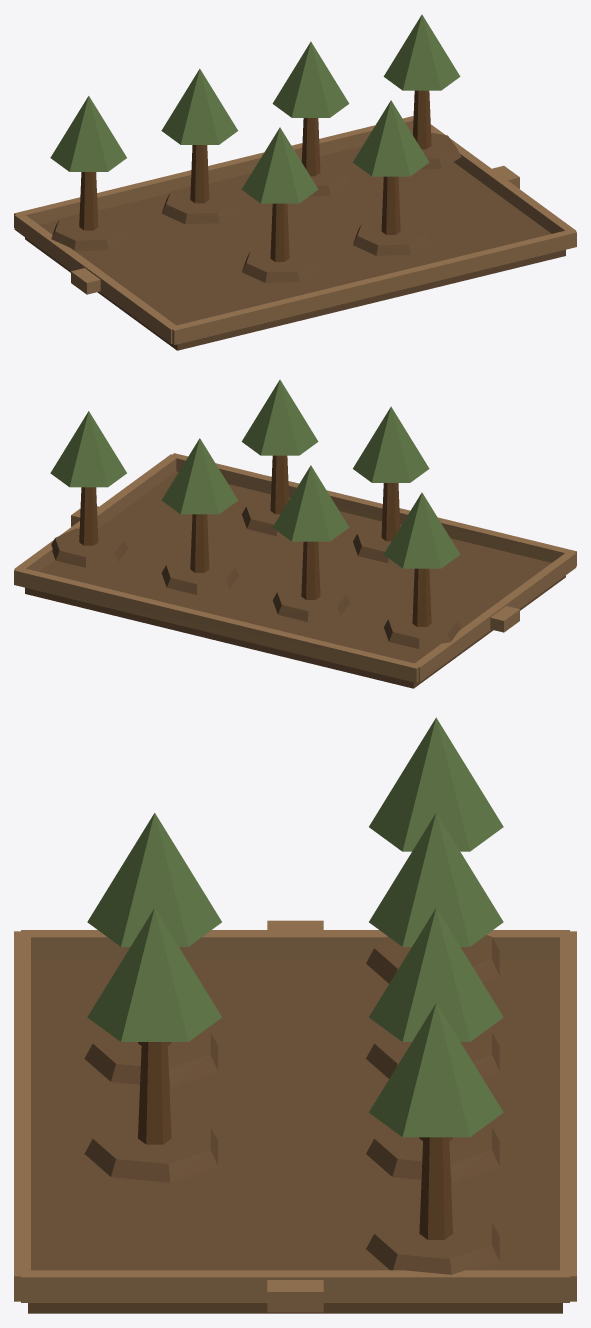
The model's file is orchard.source.glb.
3 views of the same model, one above another, from view 1: azimuth 30°, elevation 25°; view 2: azimuth 150°, elevation 25°; view 3: azimuth 270°, elevation 25° (orthographic). The views are drawn at different scales.
Parts seen in each view (by area): view 1: orchard-soil-bed-mesh, orchard-canopy-mesh (×6), orchard-curb-mesh (×4), orchard-tree-berm-mesh (×6), orchard-trunk-mesh (×6), orchard-irrigation-in-mesh; view 2: orchard-soil-bed-mesh, orchard-canopy-mesh (×6), orchard-curb-mesh (×4), orchard-tree-berm-mesh (×6), orchard-trunk-mesh (×6), orchard-irrigation-in-mesh; view 3: orchard-soil-bed-mesh, orchard-canopy-mesh (×6), orchard-curb-mesh (×4), orchard-tree-berm-mesh (×6), orchard-trunk-mesh (×2), orchard-irrigation-out-mesh.
Boxes of the visible parts, left/top/right/bottom form: orchard-soil-bed-mesh: left=25, top=146, right=565, bottom=350; orchard-canopy-mesh (×6): left=50, top=14, right=460, bottom=203; orchard-curb-mesh (×4): left=14, top=116, right=576, bottom=344; orchard-tree-berm-mesh (×6): left=51, top=132, right=461, bottom=282; orchard-trunk-mesh (×6): left=79, top=90, right=431, bottom=261; orchard-irrigation-in-mesh: left=71, top=268, right=100, bottom=294; orchard-soil-bed-mesh: left=25, top=471, right=565, bottom=688; orchard-canopy-mesh (×6): left=50, top=379, right=460, bottom=568; orchard-curb-mesh (×4): left=14, top=453, right=576, bottom=682; orchard-tree-berm-mesh (×6): left=51, top=497, right=460, bottom=648; orchard-trunk-mesh (×6): left=79, top=455, right=431, bottom=626; orchard-irrigation-in-mesh: left=490, top=606, right=519, bottom=632; orchard-soil-bed-mesh: left=28, top=960, right=562, bottom=1313; orchard-canopy-mesh (×6): left=87, top=717, right=503, bottom=1137; orchard-curb-mesh (×4): left=14, top=930, right=576, bottom=1302; orchard-tree-berm-mesh (×6): left=84, top=935, right=499, bottom=1274; orchard-trunk-mesh (×2): left=138, top=1042, right=452, bottom=1239; orchard-irrigation-out-mesh: left=267, top=1280, right=323, bottom=1312.
Bounding box in the file's own units: 3.12 × 1.13 × 2.
